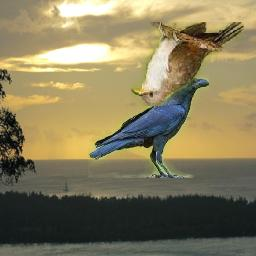Crow: (89, 76, 210, 179)
Cuckoo: (132, 22, 245, 106)
